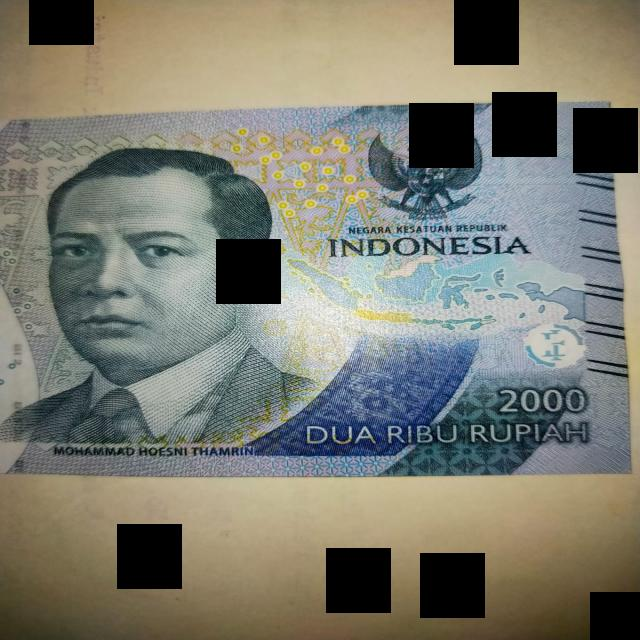dua ribu rupiah: (0, 102, 630, 476)
